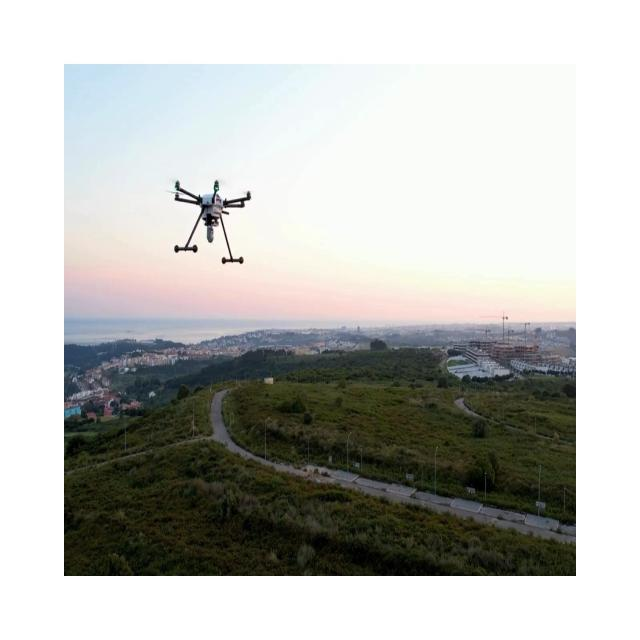drone: (165, 178, 251, 265)
